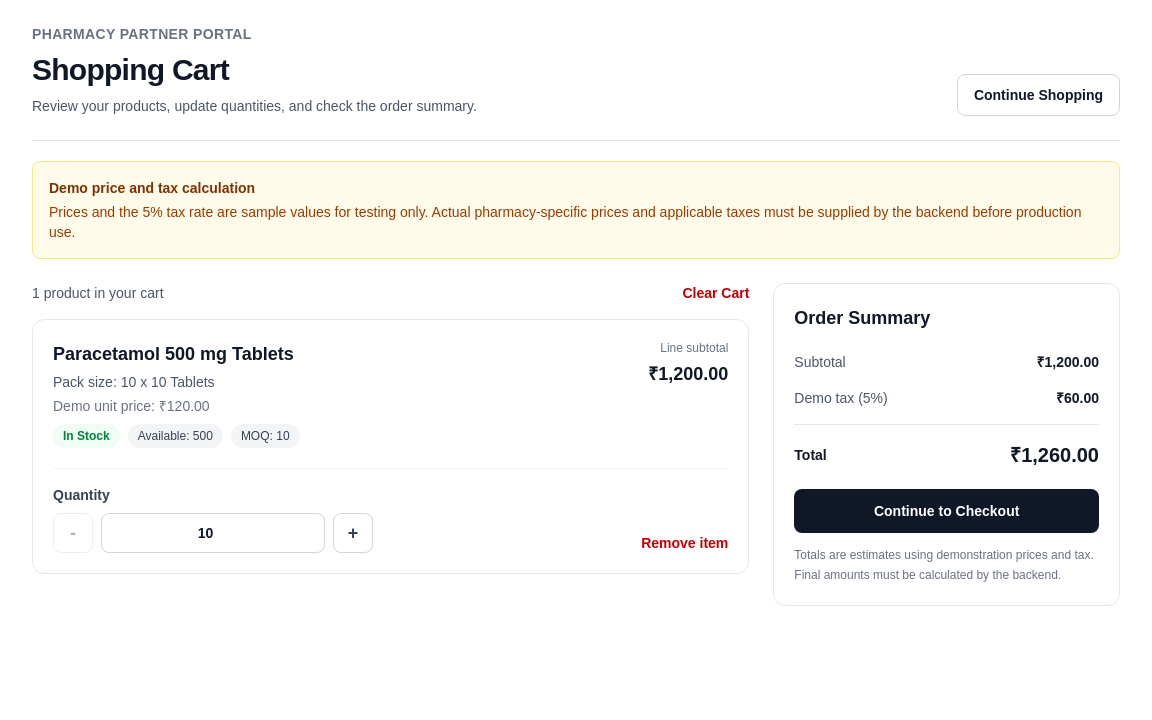
Scenario: Pharmacy Cart Page › removes a product and shows the empty cart state
The width and height of the screenshot is (1152, 720).
Check: the heading "Paracetamol 500 mg Tablets" is shown, box top-left (53, 340), bottom-right (300, 368)
Click the button "Remove item" at (685, 543), box top-left (641, 533), bottom-right (728, 553)
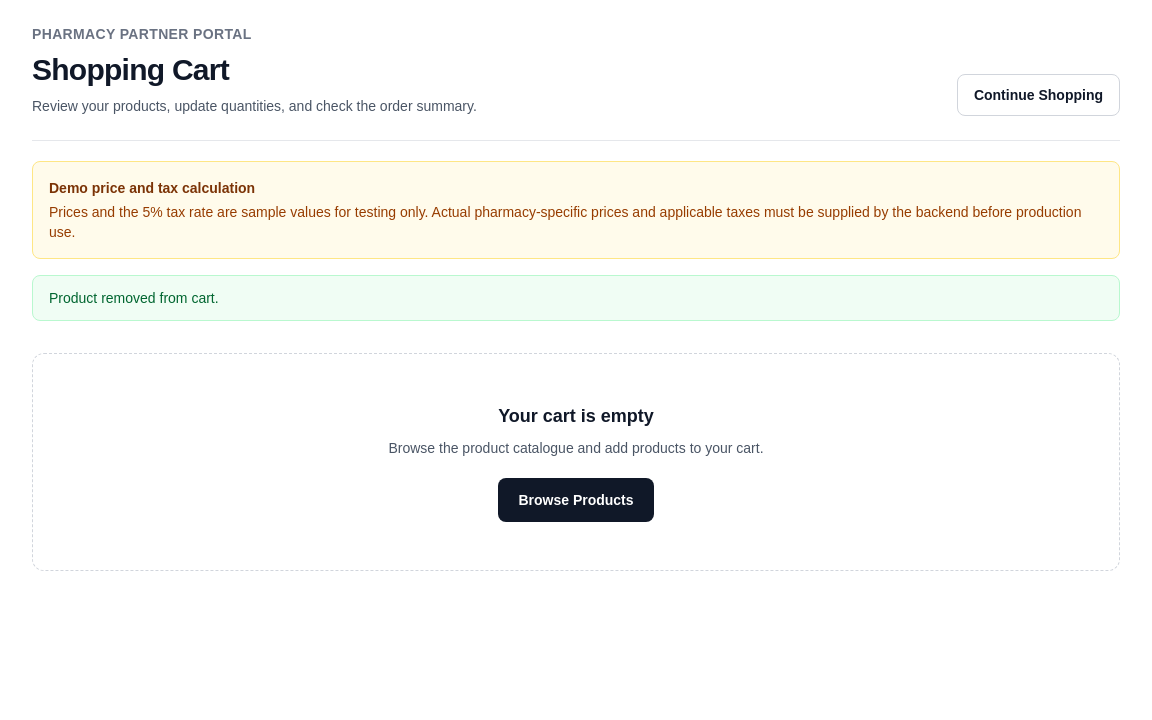
Check: the message reads "Product removed from cart.", box top-left (49, 290), bottom-right (219, 306)
Check: the heading "Your cart is empty" is shown, box top-left (498, 406), bottom-right (654, 426)
